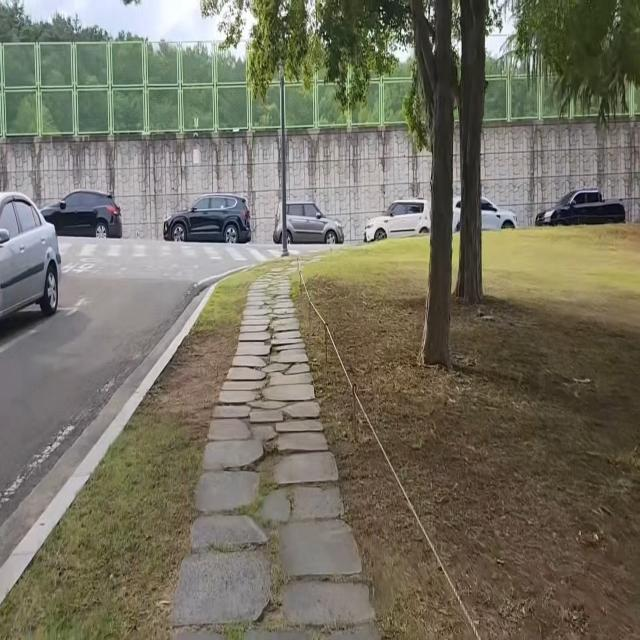obstacle: (158, 188, 255, 246), (37, 182, 128, 241), (360, 191, 439, 249), (268, 193, 350, 247)
road: (0, 234, 309, 573)
